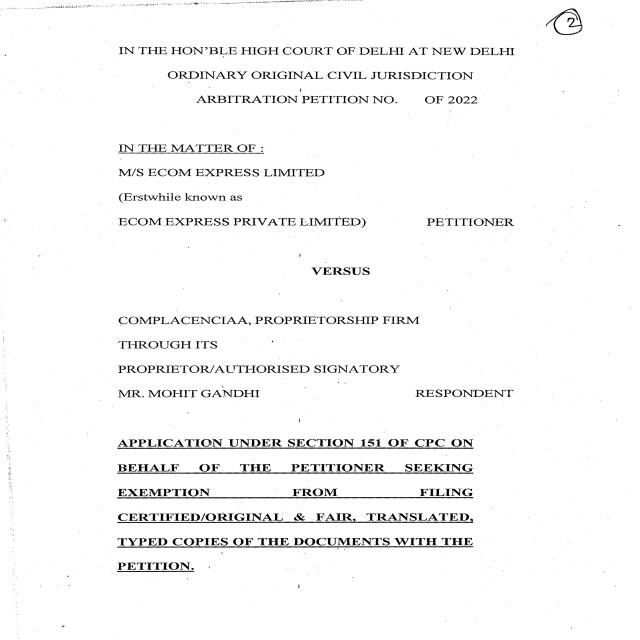page-number: (519, 0, 640, 98)
